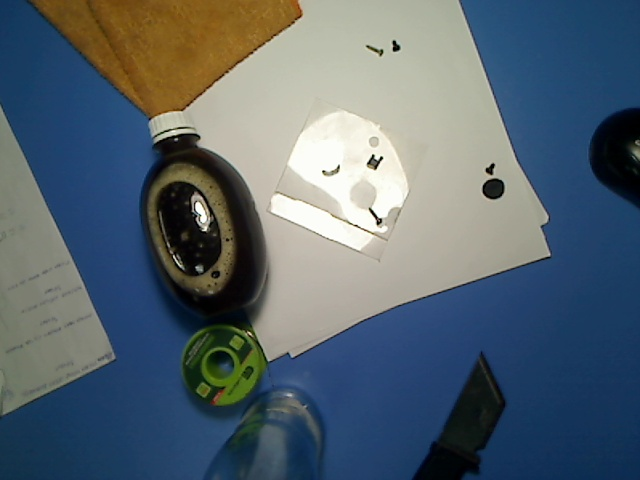plast_bottle: (132, 110, 269, 317)
